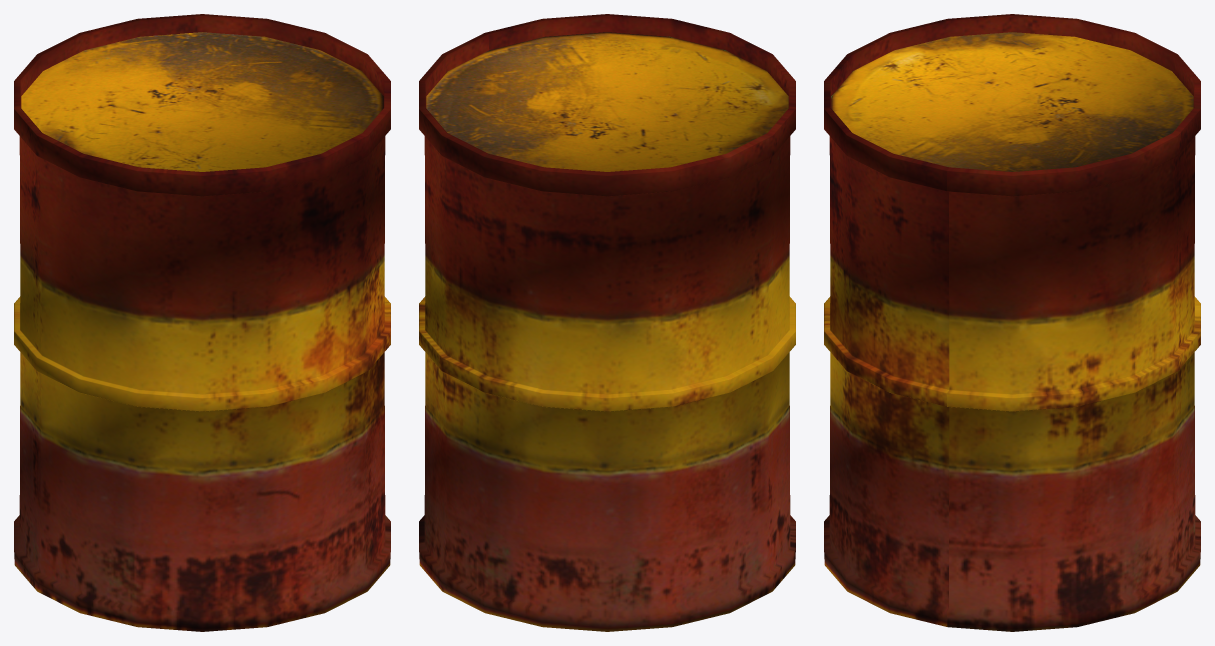
The model's file is barrels-02.FBX.
3 renders of one model, left to right at view 1: azimuth 30°, elevation 25°; view 2: azimuth 150°, elevation 25°; view 3: azimuth 270°, elevation 25°, orthographic.
Visible parts, largest first — view 1: Cylinder001; view 2: Cylinder001; view 3: Cylinder001.
Boxes of the visible parts, left/top/right/bottom form: Cylinder001: left=14, top=14, right=390, bottom=631; Cylinder001: left=419, top=14, right=795, bottom=631; Cylinder001: left=824, top=14, right=1200, bottom=631.
Bounding box in the file's own units: 29.89 × 39.42 × 29.44.
Materials: 1 (1 with a texture image).
